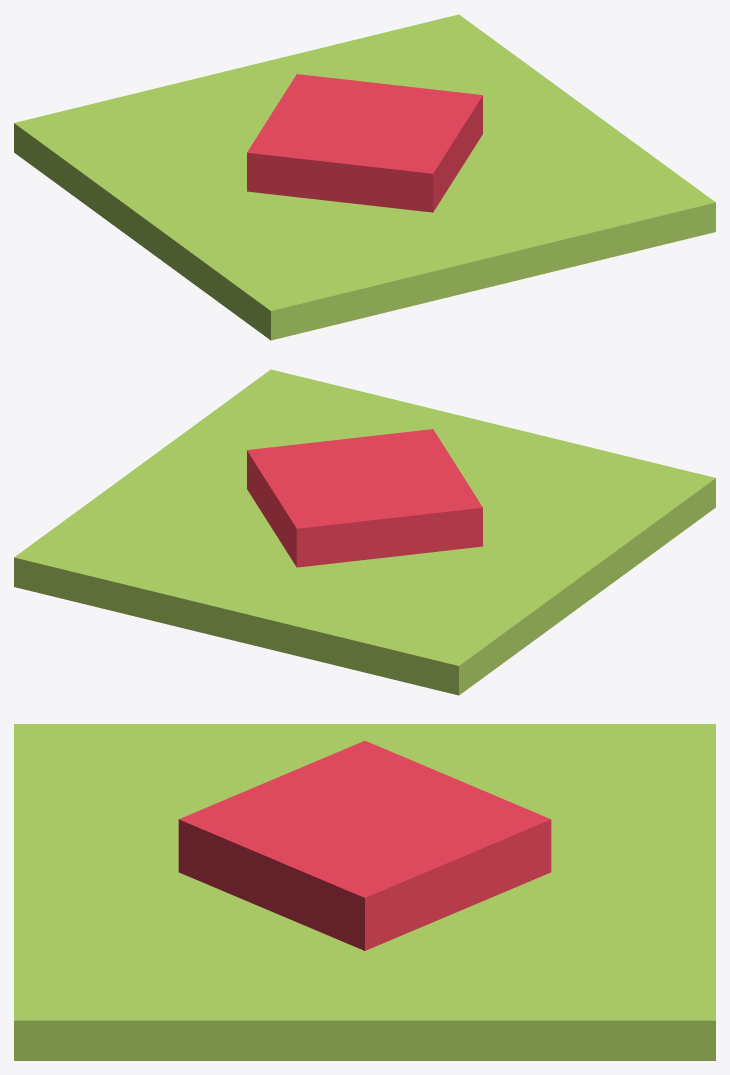
File: obstacleDiamond.fbx
3 views of the same model, one above another, from view 1: azimuth 30°, elevation 25°; view 2: azimuth 150°, elevation 25°; view 3: azimuth 270°, elevation 25° (orthographic). The views are drawn at different scales.
Visible parts, largest first — view 1: obstacleDiamond; view 2: obstacleDiamond; view 3: obstacleDiamond.
Part boxes in pixels (box(x1,y1,x2,y2)): obstacleDiamond: box(14, 14, 715, 340); obstacleDiamond: box(14, 369, 715, 695); obstacleDiamond: box(14, 724, 715, 1060).
Bounding box in the file's own units: 10 × 1.47 × 10.
